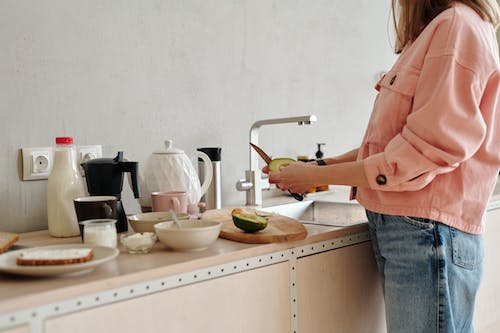knife: (248, 141, 273, 167)
